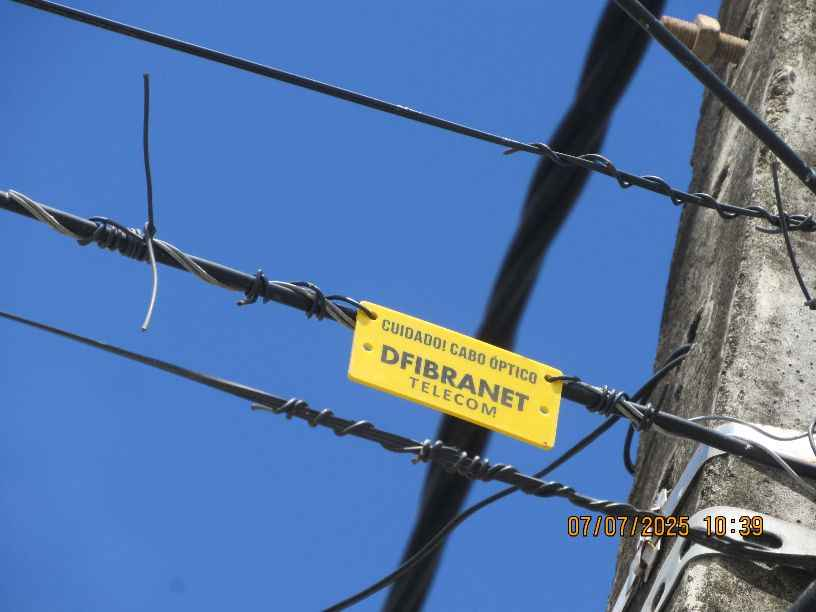fibra_optica: (136, 210, 639, 509)
